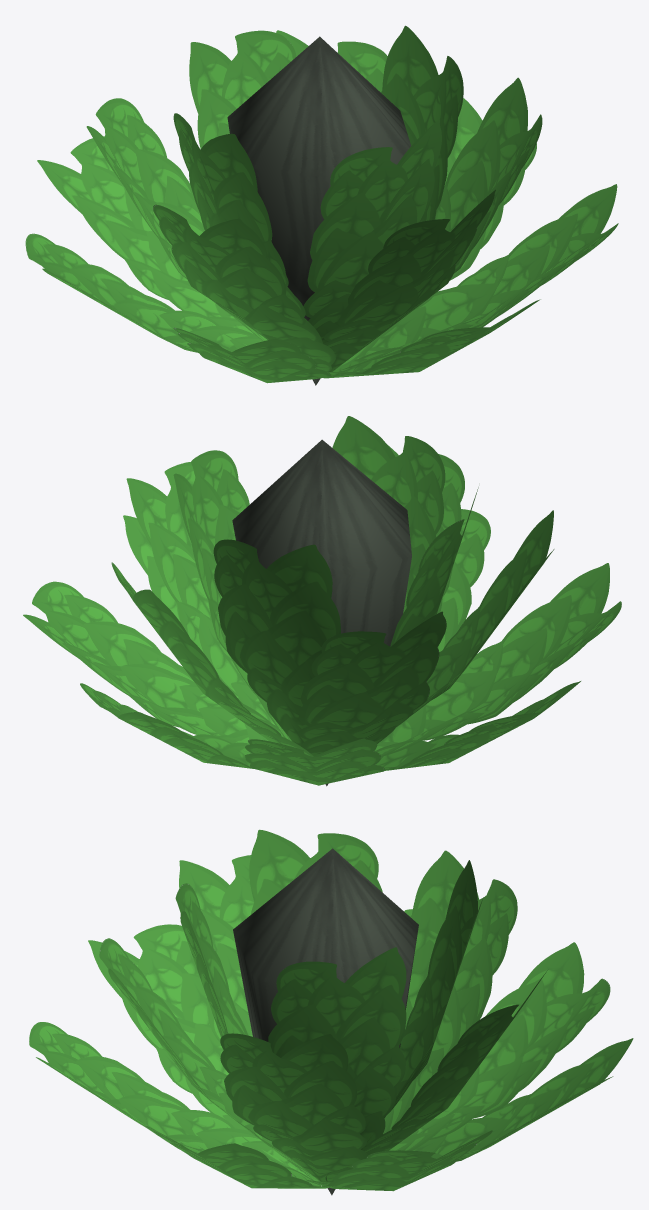
Rendered from Buisson 3.fbx.
3 views of the same model, one above another, from view 1: azimuth 30°, elevation 25°; view 2: azimuth 150°, elevation 25°; view 3: azimuth 270°, elevation 25° (orthographic).
Visible parts, largest first — view 1: Buisson; view 2: Buisson; view 3: Buisson.
Boxes of the visible parts, <box> form: Buisson: <box>25,25,618,385</box>; Buisson: <box>23,416,621,786</box>; Buisson: <box>29,829,633,1195</box>.
Size of the model in its own units: 2.37 by 2.4 by 1.49.
